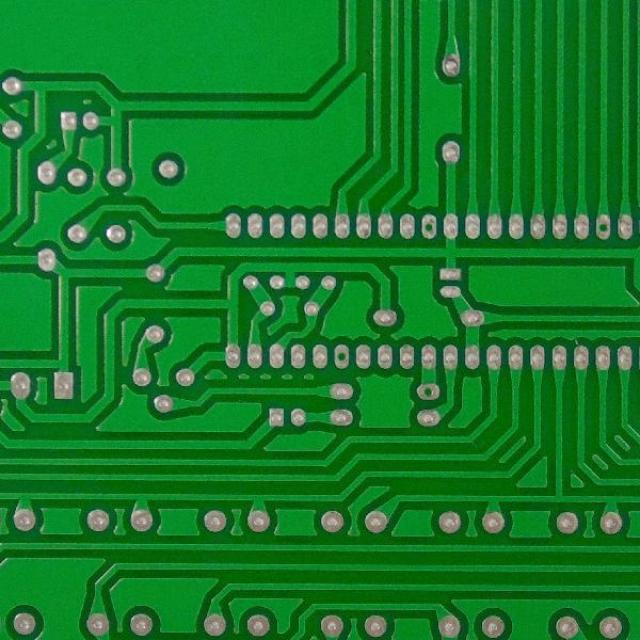Missing_Hole: (414, 381, 440, 402), (594, 212, 613, 240), (333, 342, 351, 369), (421, 212, 438, 240)
